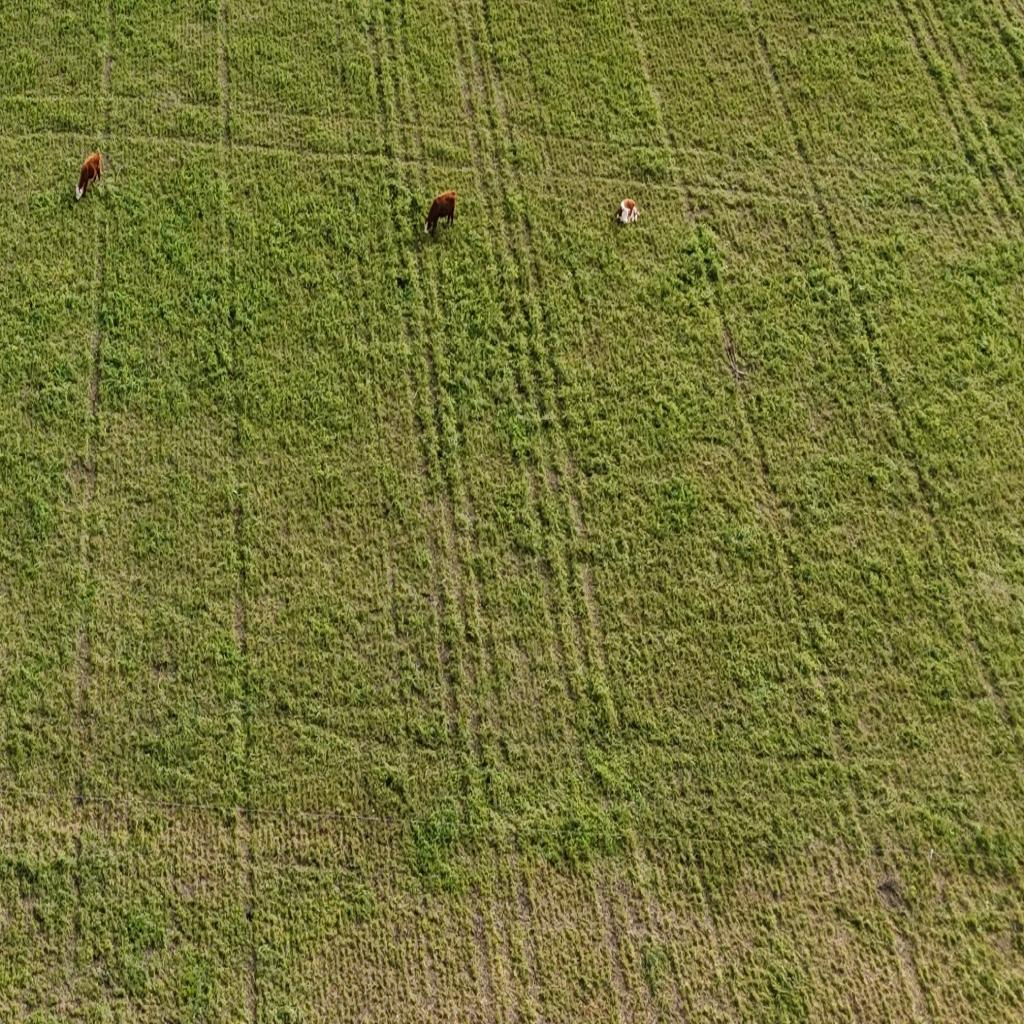cow: (425, 188, 459, 238), (74, 149, 102, 204), (617, 195, 642, 226)
